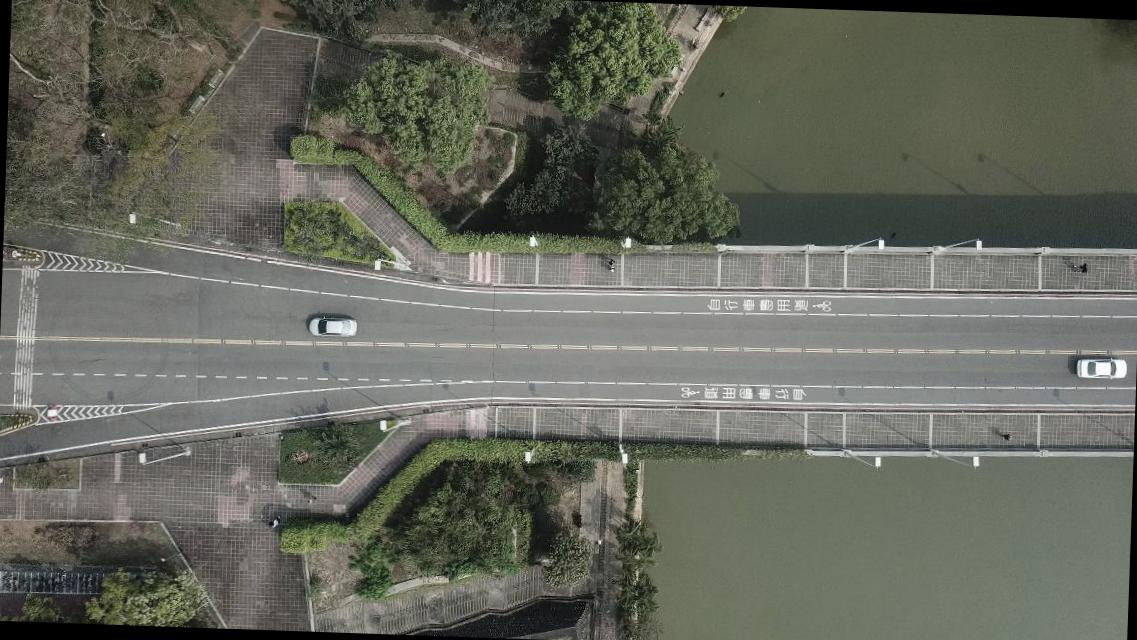vehicle: (1074, 354, 1126, 379), (306, 314, 356, 338)
